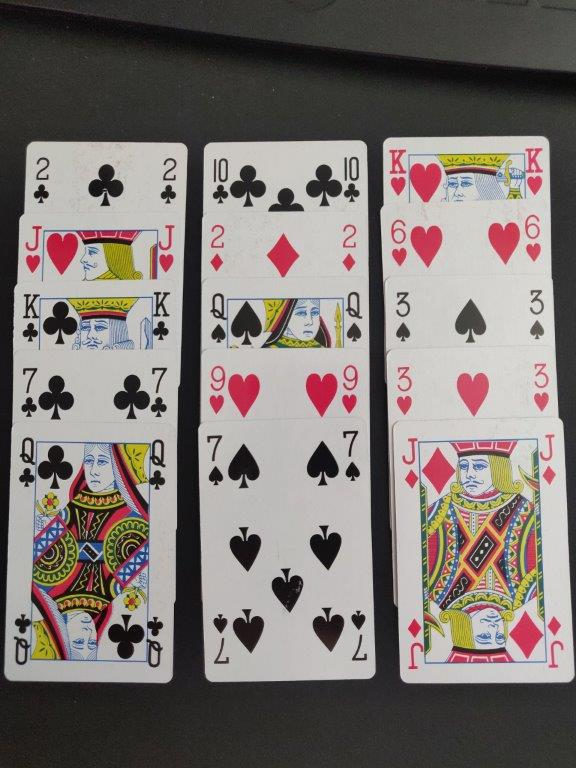10C: (337, 151, 364, 206), (207, 154, 233, 207)
2C: (26, 153, 57, 207), (159, 153, 179, 206)
2D: (203, 221, 230, 275), (338, 220, 361, 276)
3H: (390, 362, 420, 419), (529, 358, 555, 416)
3S: (389, 288, 418, 348), (523, 284, 549, 344)
6H: (386, 212, 412, 272), (520, 211, 545, 266)
7C: (14, 364, 41, 424), (147, 362, 171, 421)
7S: (199, 428, 229, 491), (338, 425, 366, 485)
9H: (205, 363, 230, 418), (339, 360, 361, 416)
JD: (394, 432, 425, 493), (534, 431, 561, 486)
JH: (153, 220, 180, 278), (20, 222, 46, 277)
KC: (18, 288, 44, 348), (150, 286, 175, 348)
KH: (519, 142, 548, 200), (387, 145, 411, 201)
QC: (14, 434, 40, 490), (147, 435, 169, 495)
QS: (205, 287, 232, 349), (342, 287, 367, 349)
